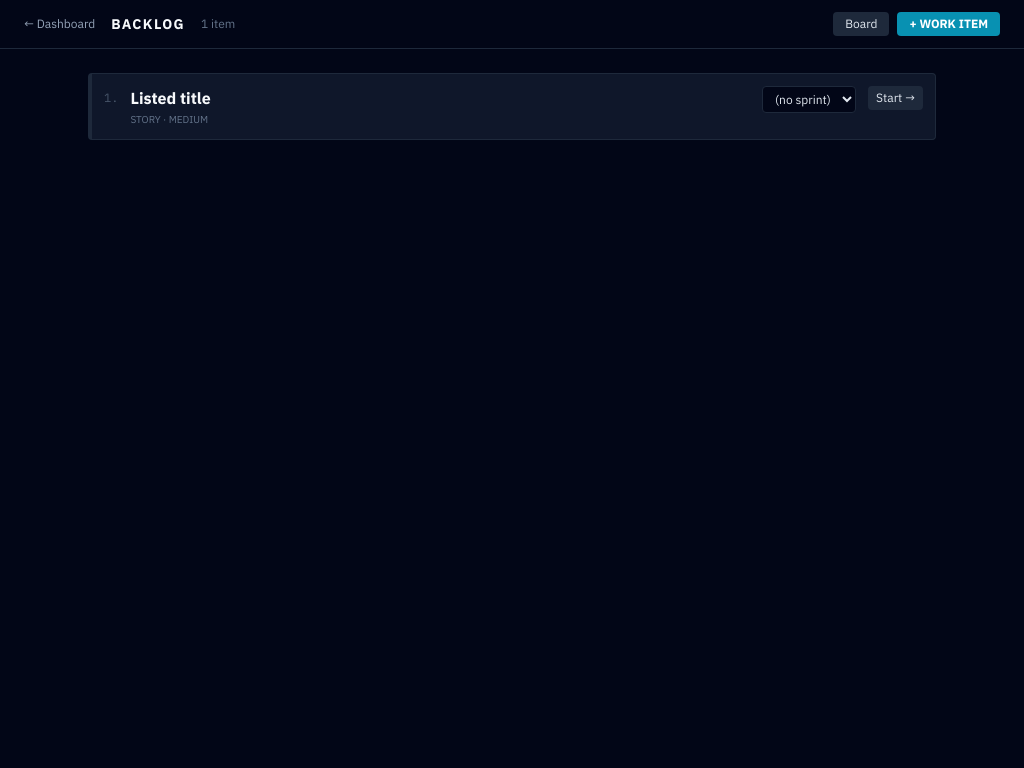
Test: Backlog opening an item › opens the stored copy, not the one the list loaded
Click the text "Listed title".
click(170, 98)  # box [130, 88, 211, 108]
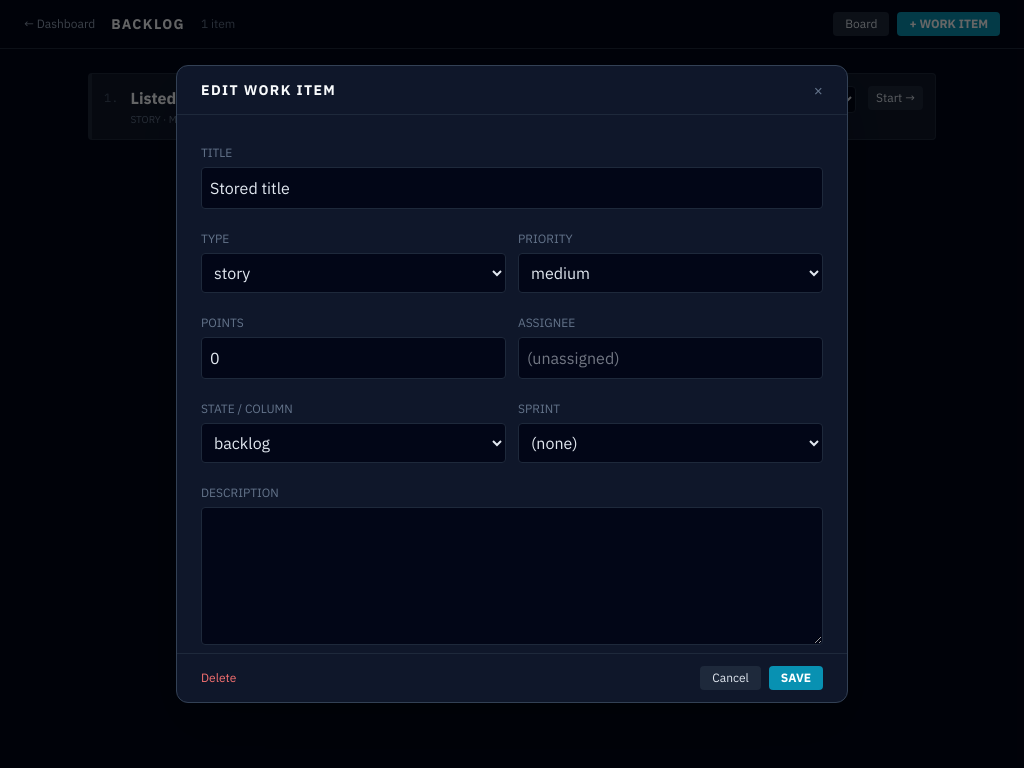
Result: the field showing "Stored title" is shown at [201, 167, 823, 209]
